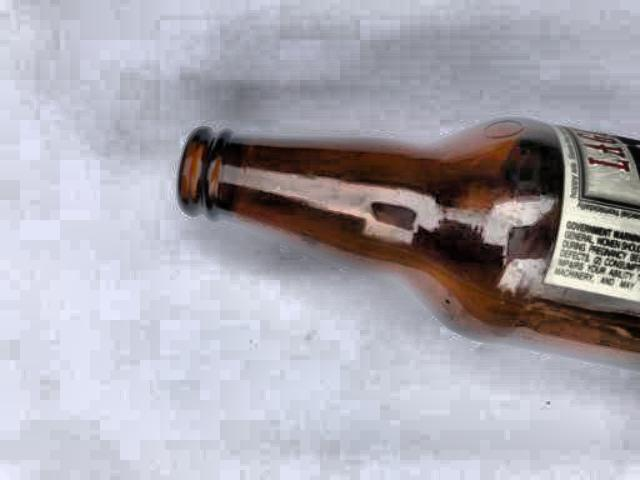Bottles: (155, 90, 640, 385)
